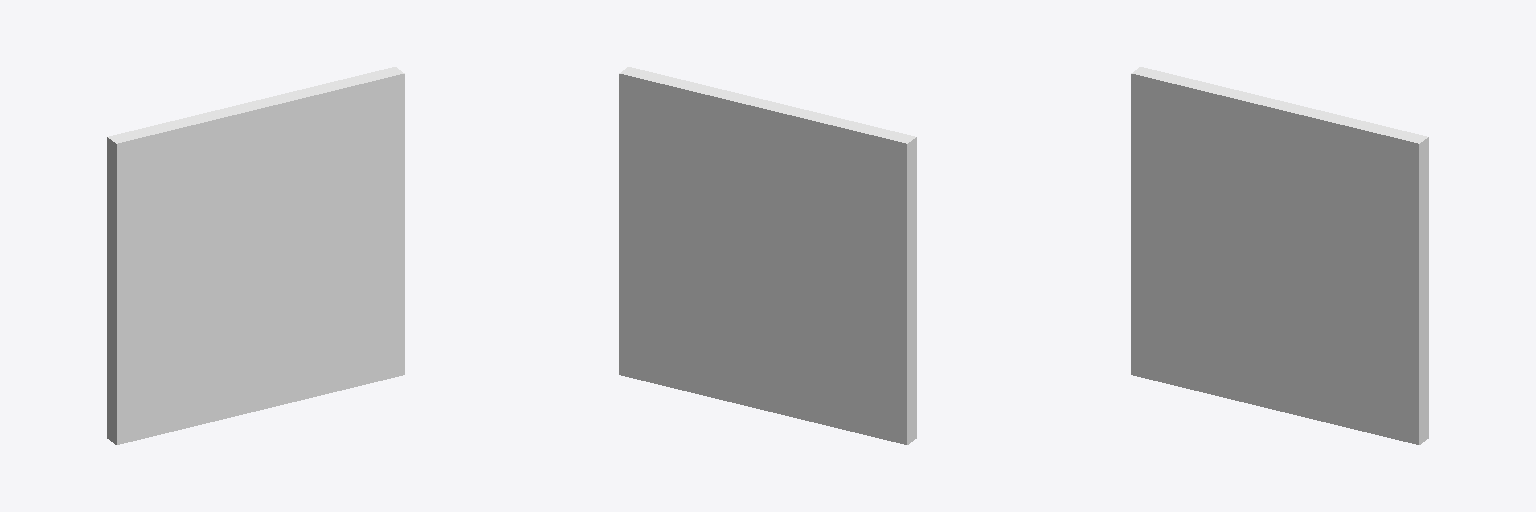
The model's file is wallWithWindow5-0-lod3.obj.
3 views of the same model, side by side, from view 1: azimuth 30°, elevation 25°; view 2: azimuth 150°, elevation 25°; view 3: azimuth 330°, elevation 25° (orthographic).
Parts seen in each view (by area): view 1: lod3; view 2: lod3; view 3: lod3.
Boxes of the visible parts, x1,y1,x2,y2 form: lod3: [107, 67, 404, 444]; lod3: [619, 67, 916, 444]; lod3: [1131, 67, 1428, 444].
Bounding box in the file's own units: 16 × 16 × 0.9.